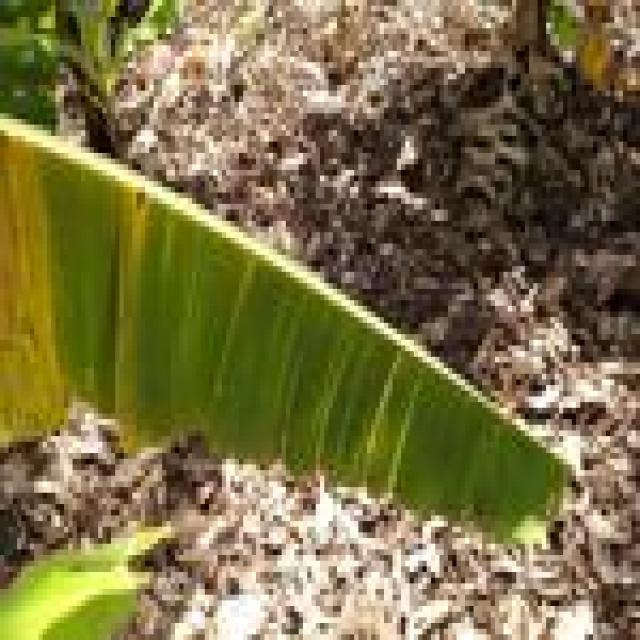Early_rust: (0, 91, 563, 589)
